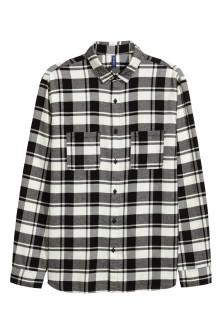teeshirt: (3, 41, 222, 291)
